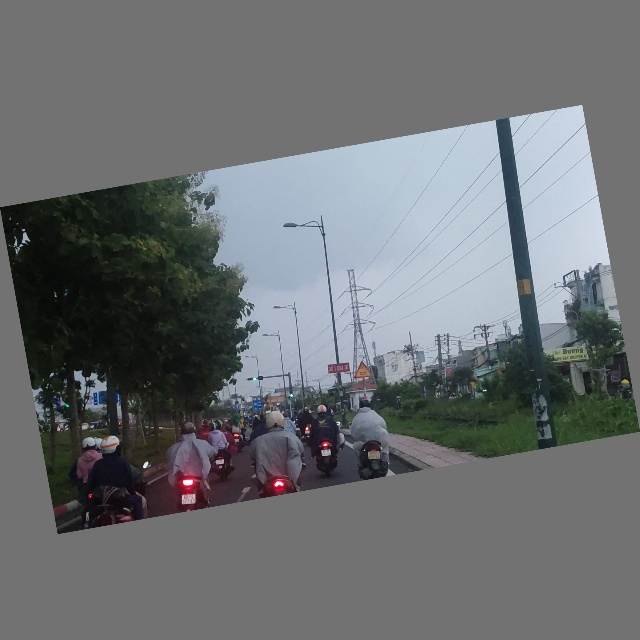W.210: (352, 360, 373, 381)
